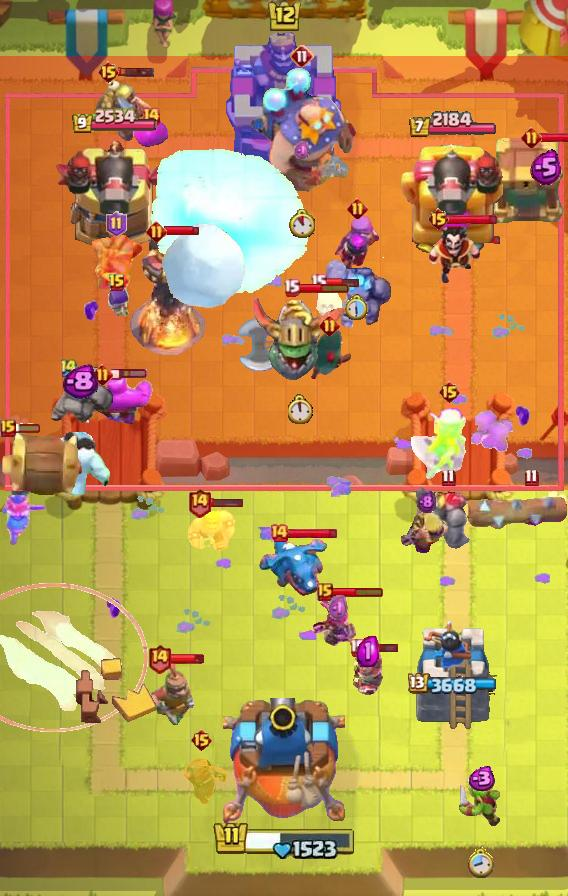archer-evolution: (310, 596, 368, 654)
axe: (235, 317, 301, 373)
bandit: (305, 328, 353, 384)
bar: (287, 527, 338, 540), (447, 213, 498, 226), (331, 586, 384, 598), (297, 282, 350, 294), (364, 641, 399, 654), (111, 368, 148, 380), (118, 66, 155, 78), (169, 653, 205, 665), (6, 422, 42, 434), (164, 225, 200, 237), (324, 277, 360, 288), (209, 497, 244, 508), (539, 131, 568, 144)
bar-level: (147, 643, 172, 674), (187, 487, 212, 518), (290, 44, 314, 68), (190, 728, 213, 752), (438, 380, 461, 404), (427, 207, 450, 231), (97, 60, 120, 84), (106, 211, 127, 237), (92, 364, 113, 385), (319, 315, 340, 336), (146, 221, 167, 242), (347, 198, 368, 219), (521, 127, 542, 148), (59, 357, 79, 378), (269, 523, 289, 543), (141, 106, 161, 126), (108, 273, 126, 293), (349, 638, 366, 657), (283, 278, 300, 297), (310, 273, 327, 292), (317, 583, 333, 601), (0, 419, 16, 437), (441, 468, 456, 487), (524, 468, 539, 487)
barbarian: (187, 503, 239, 555)
barbarian-barrel: (0, 431, 90, 499)
barbarian-evolution: (401, 504, 452, 556)
cannoneer-tower: (53, 138, 175, 256), (399, 138, 507, 256)
clock: (466, 846, 494, 878), (288, 394, 314, 424), (289, 209, 315, 238), (345, 294, 369, 321)
dart-goblin: (87, 235, 145, 297)
electro-dragon: (259, 534, 329, 598)
electro-wizard: (427, 223, 483, 287)
elixir: (62, 364, 98, 400), (530, 149, 562, 186), (465, 766, 496, 791), (357, 636, 379, 667), (328, 594, 350, 622), (417, 490, 436, 514), (294, 140, 311, 161)
elixir-golem-mid: (85, 374, 153, 426)
elixir-golem-small: (133, 119, 169, 149)
goblin: (457, 779, 503, 829)
golemite: (326, 257, 392, 329), (413, 484, 483, 550), (47, 367, 113, 429)
heal-spirit: (313, 278, 343, 324)
king-tower: (224, 29, 344, 181), (223, 698, 345, 826)
king-tower-bar: (212, 817, 356, 859)
little-prince: (350, 649, 387, 697)
miner: (96, 77, 154, 145)
mini-pekka: (173, 752, 229, 808)
mother-witch: (331, 213, 383, 275)
queen-tower: (409, 616, 497, 731)
royal-recruit: (149, 657, 199, 729)
skeleton-evolution: (102, 285, 132, 325)
the-log: (465, 492, 568, 530)
tower-bar: (408, 111, 498, 139), (71, 108, 158, 135), (408, 673, 499, 696)
valkyrie: (0, 493, 48, 547)
